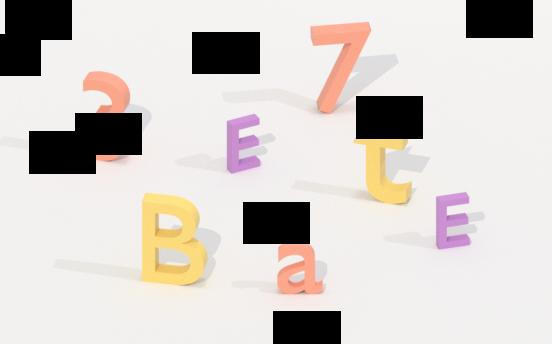3: (73, 65, 137, 170)
7: (300, 23, 374, 115)
E-hoa: (222, 112, 266, 178), (430, 189, 476, 251)
a: (272, 239, 326, 301)
b: (138, 194, 209, 287)
t: (348, 117, 416, 208)
